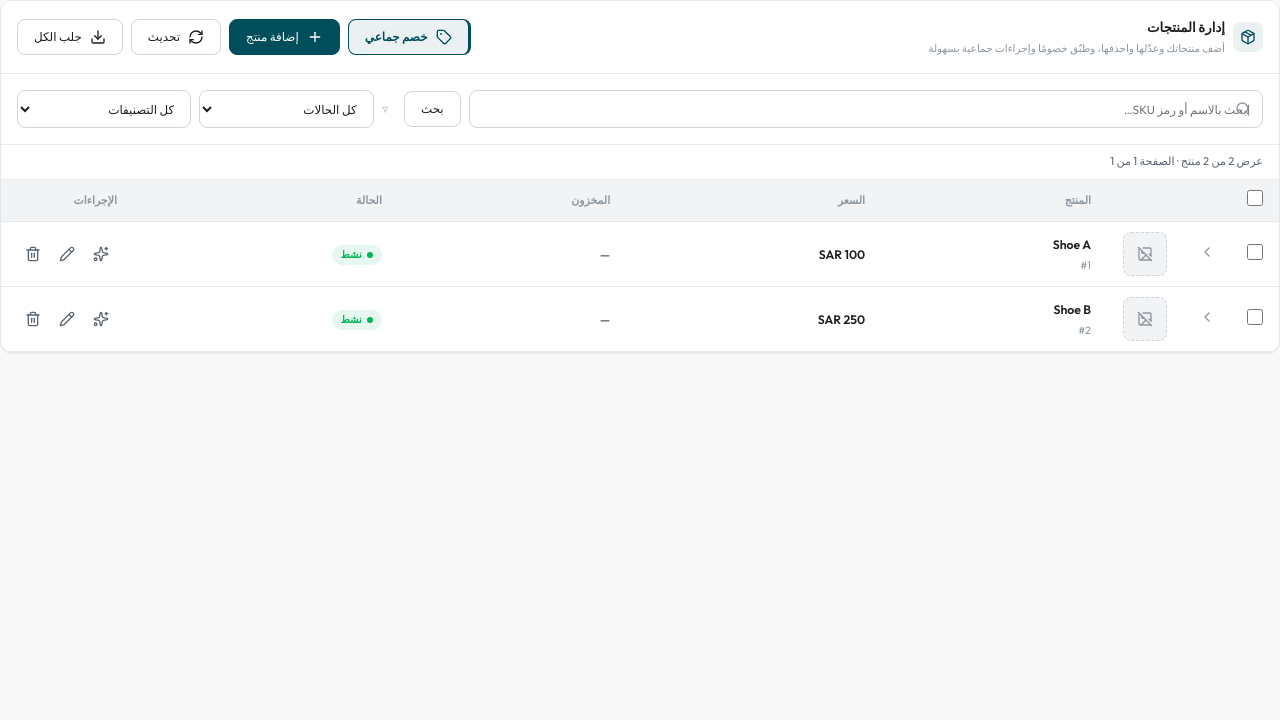
it: Bulk product actions › blocks prices that would go to zero or below
The width and height of the screenshot is (1280, 720).
Click the checkbox named "تحديد Shoe A": point(1255, 252) [1247,244,1263,260]
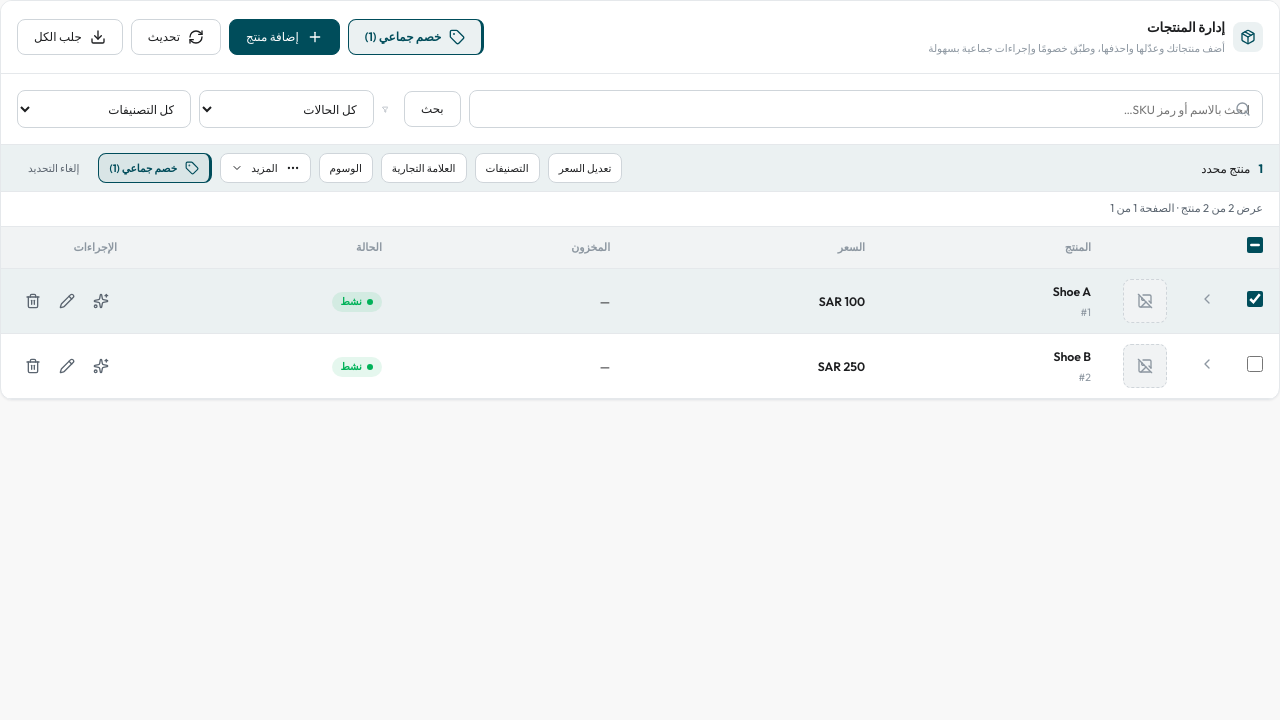
Click the button "تعديل السعر": point(585, 168) [548,153,622,183]
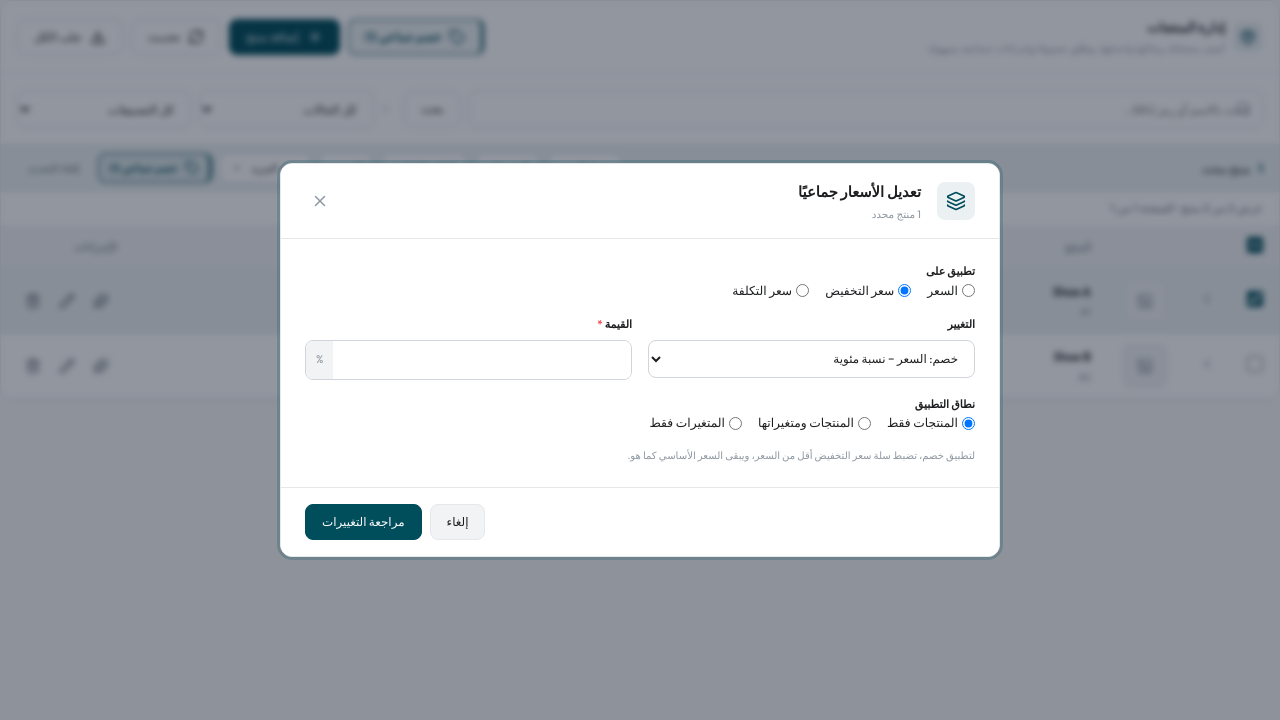
Select "خصم: السعر − مبلغ ثابت" in the dropdown labelled "التغيير": point(812, 359) [648,340,975,378]
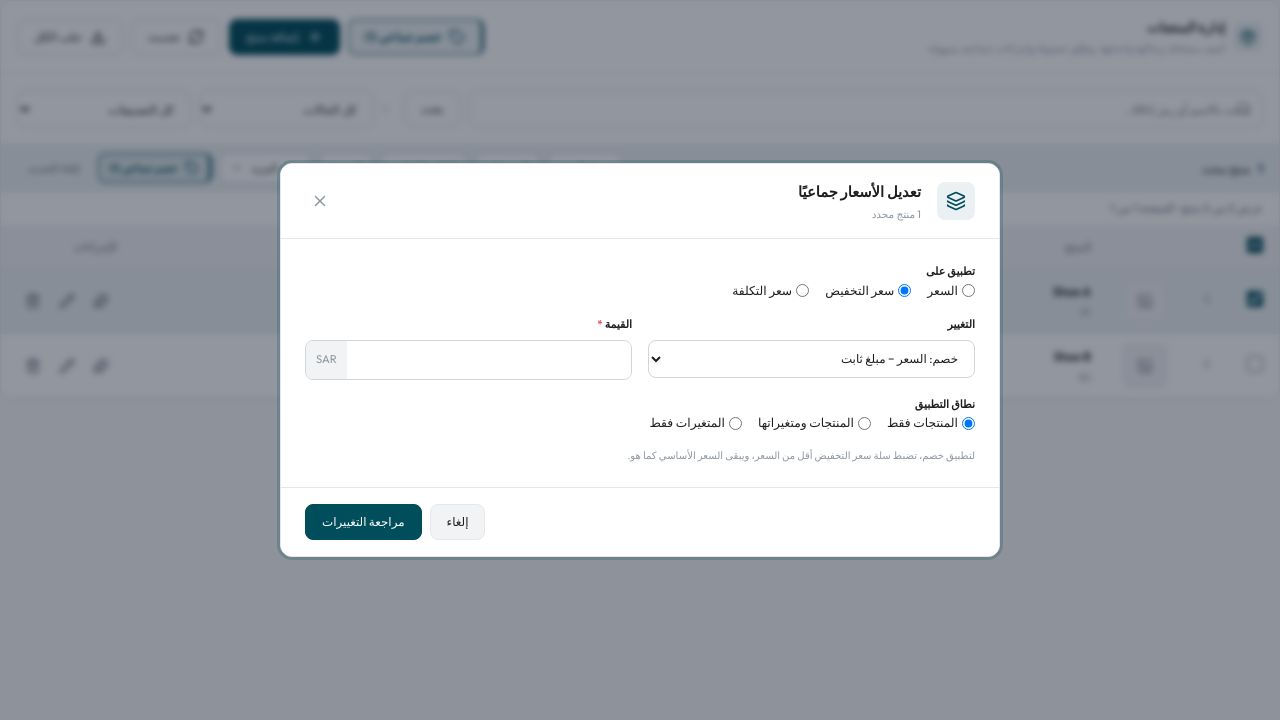
In the number field labelled "القيمة*": point(489, 360) [347,341,631,379], type "150"
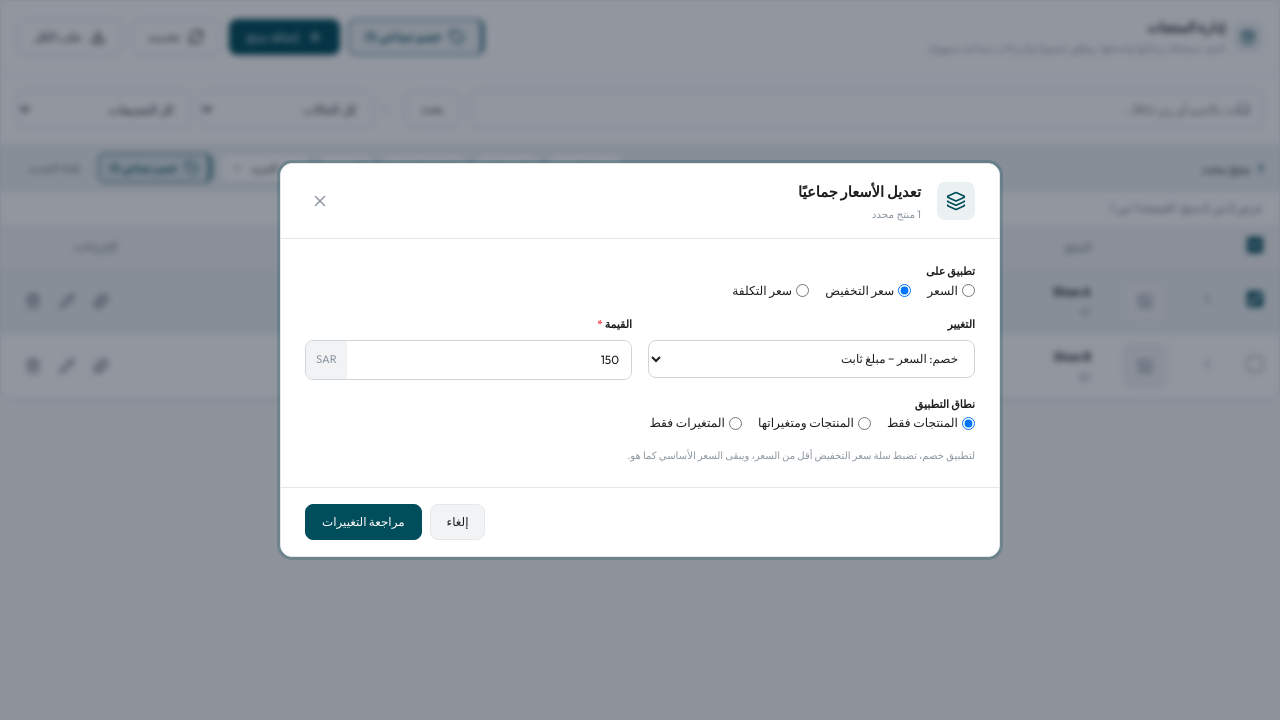
Click the button "مراجعة التغييرات": point(363, 522) [305,504,422,540]
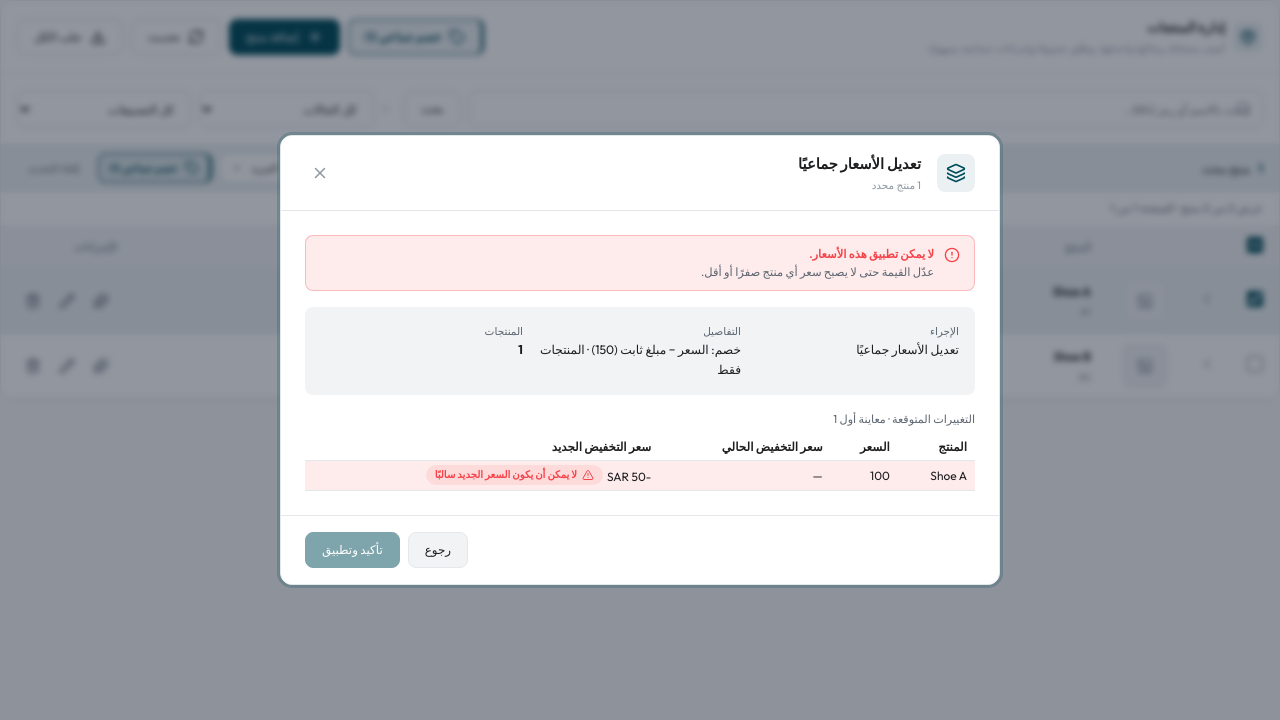
Expected: the text "لا يمكن أن يكون السعر الجديد سالبًا" is shown, [426,465,603,485]
Expected: the button "تأكيد وتطبيق" is disabled, [305,532,400,568]
